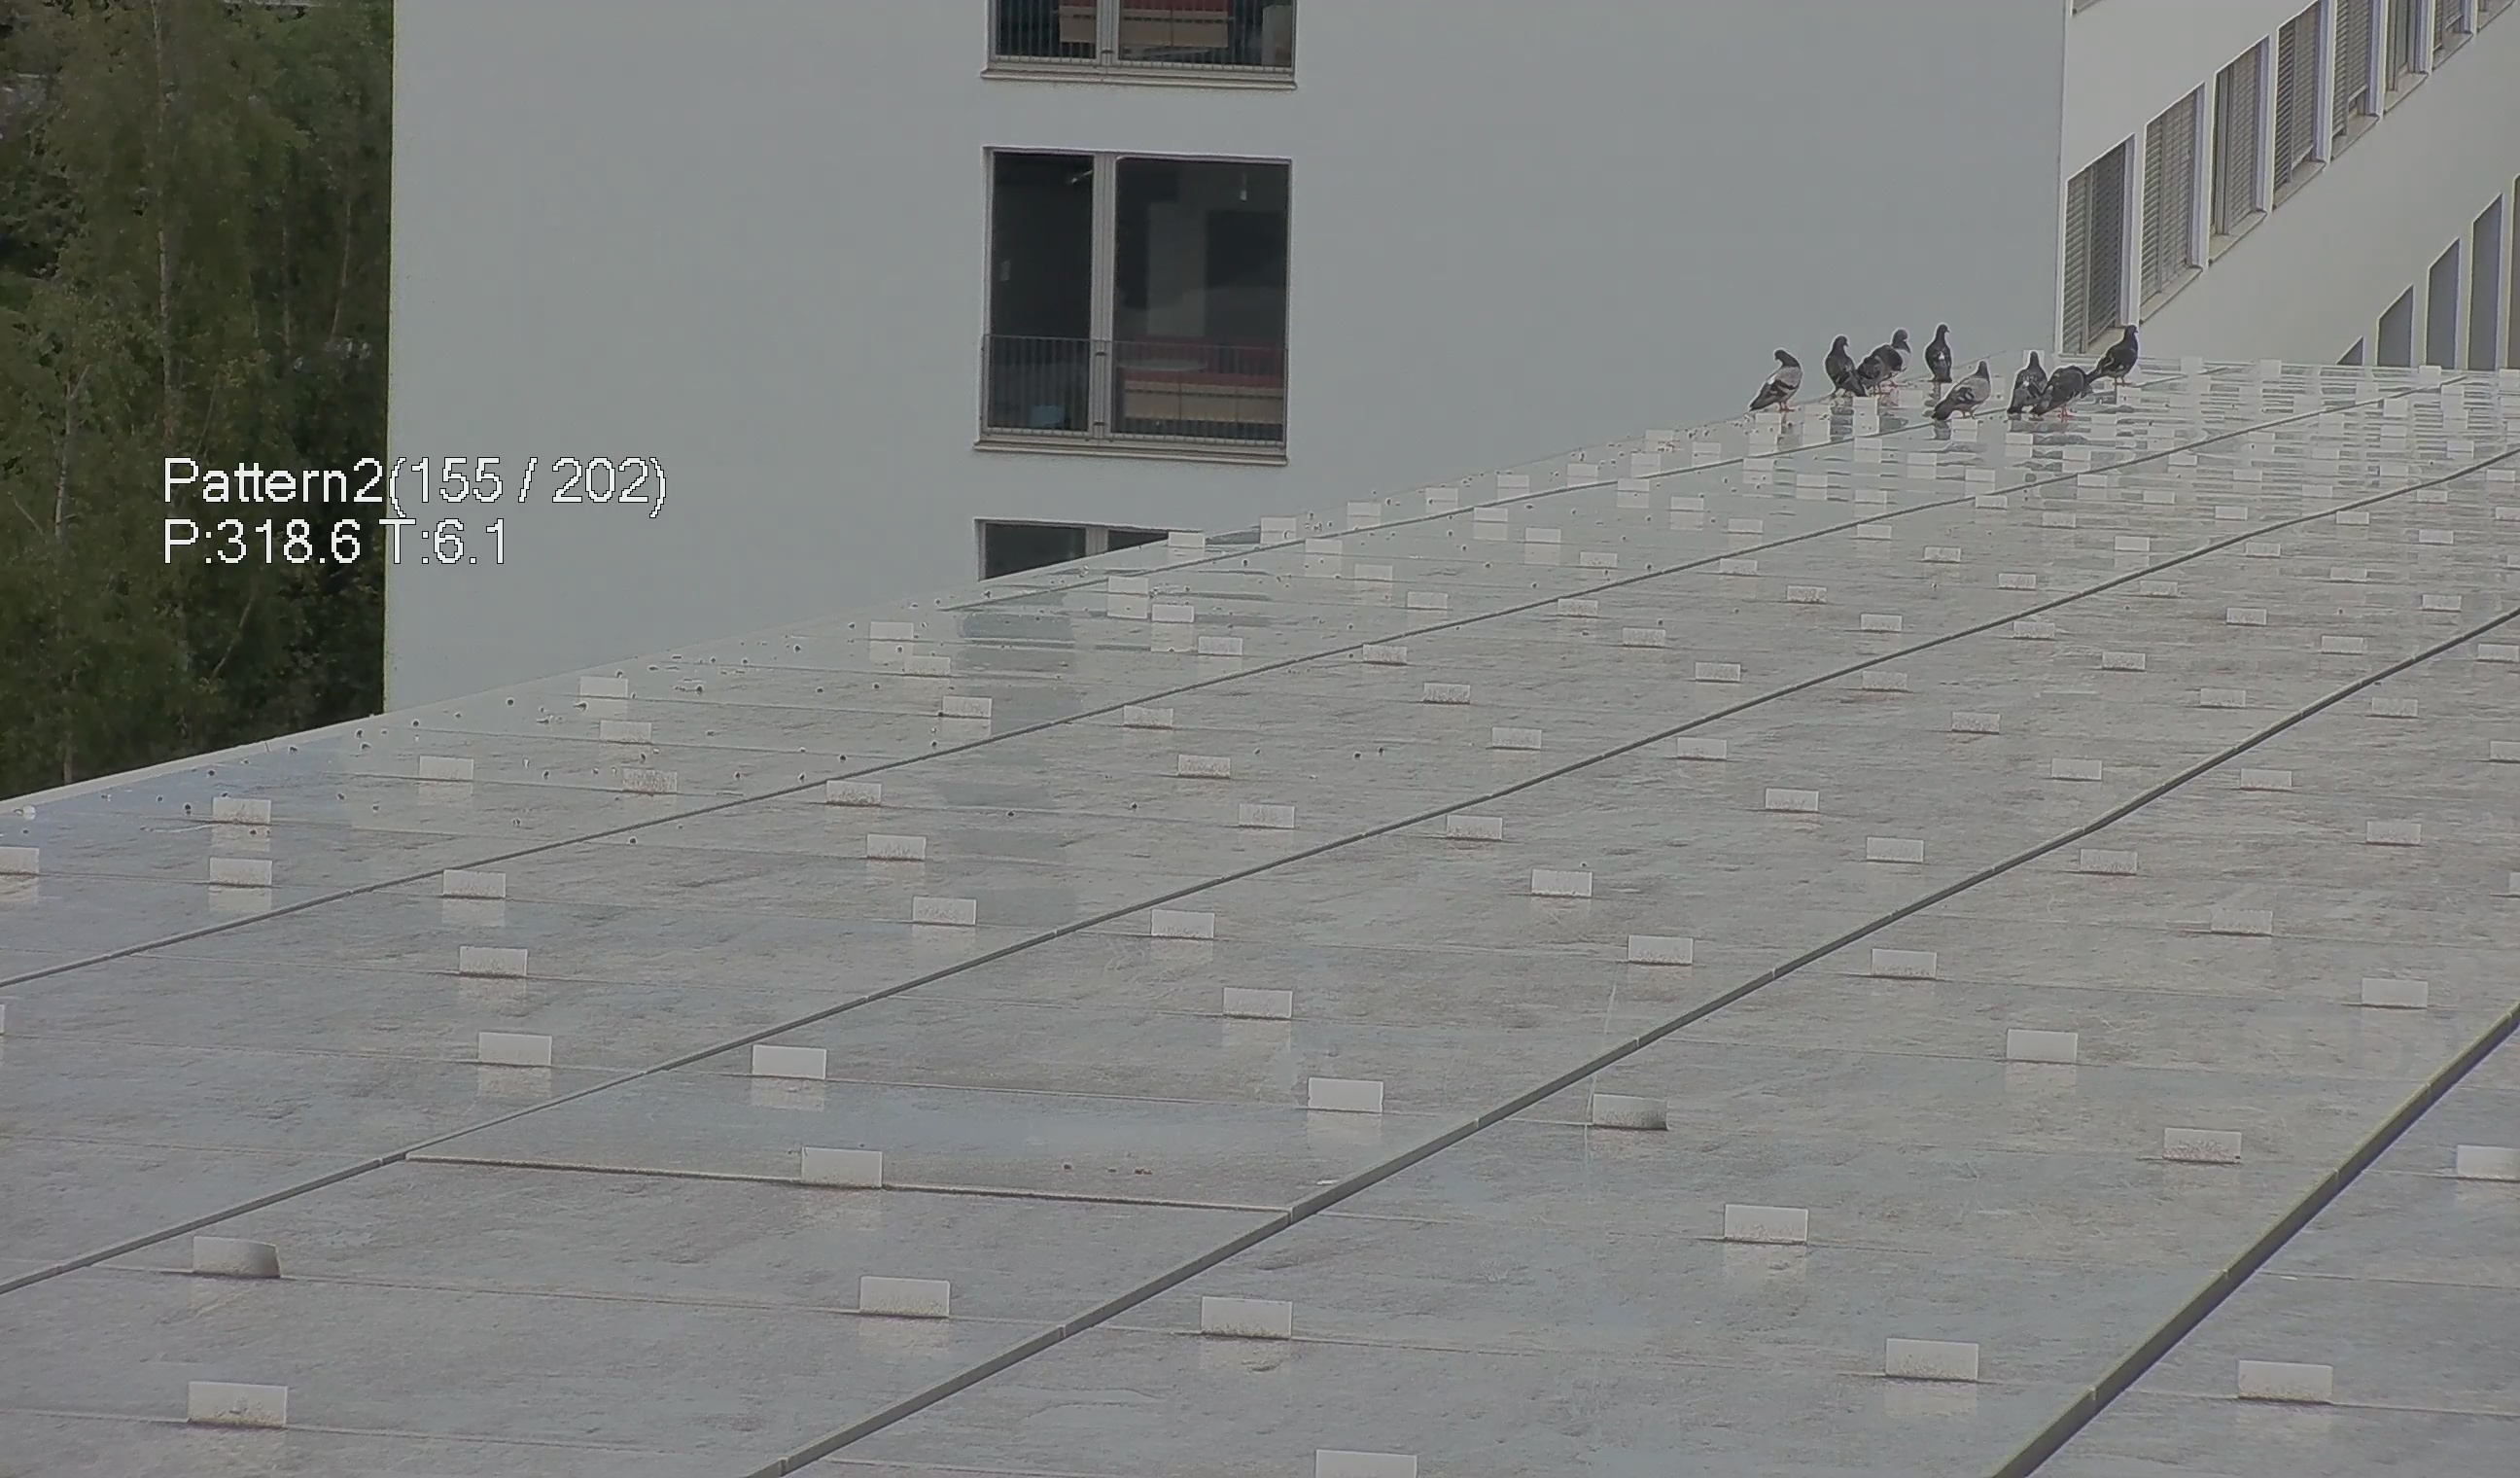Pigeon: (1744, 341, 1804, 415), (2087, 318, 2147, 391), (1933, 355, 1996, 422), (2033, 362, 2094, 422), (2005, 341, 2049, 417), (1822, 333, 1862, 403), (1878, 324, 1913, 394), (1857, 338, 1897, 394), (1924, 320, 1959, 382)
